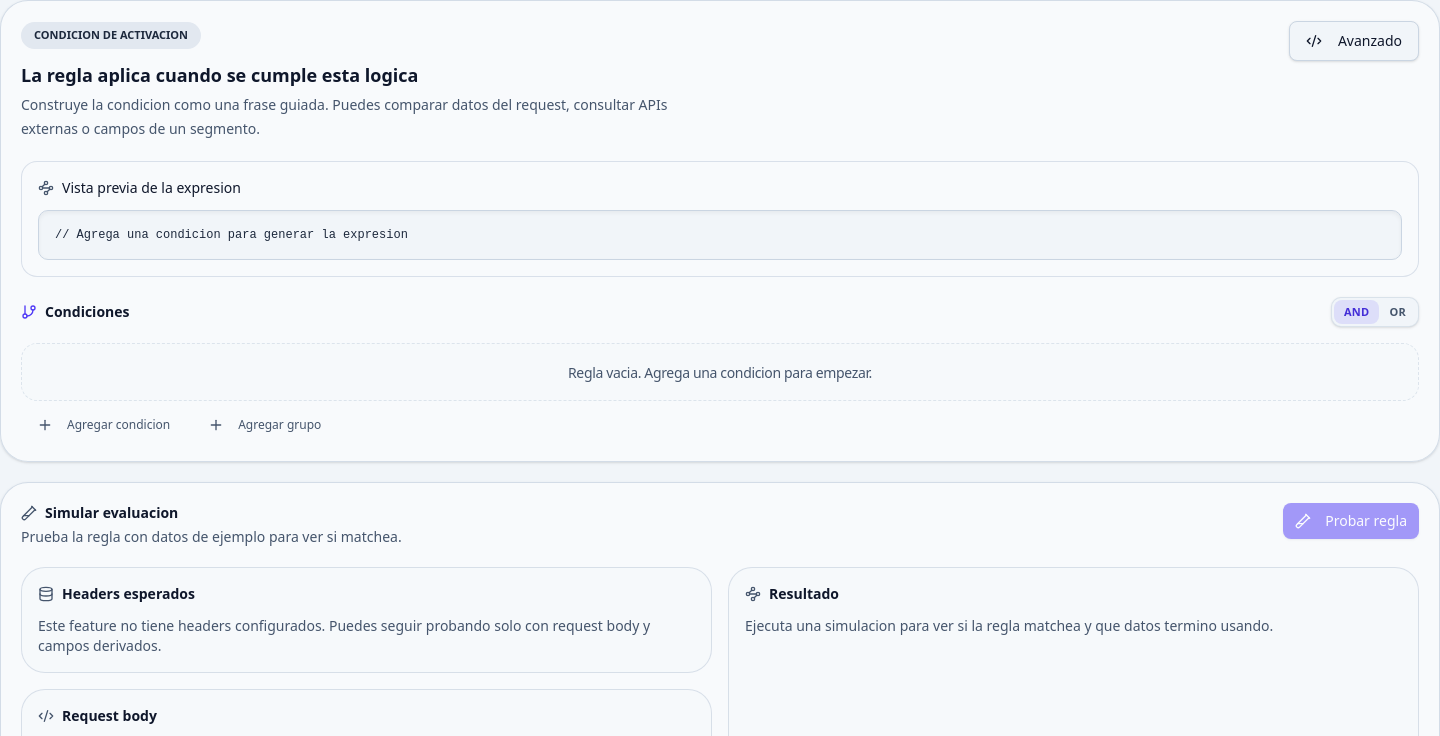
RuleConditionsCanvas › shows the return-to-builder action only when guided metadata exists
Step 1. Click the button "Avanzado" → (1354, 41), box left=1289, top=21, right=1419, bottom=61
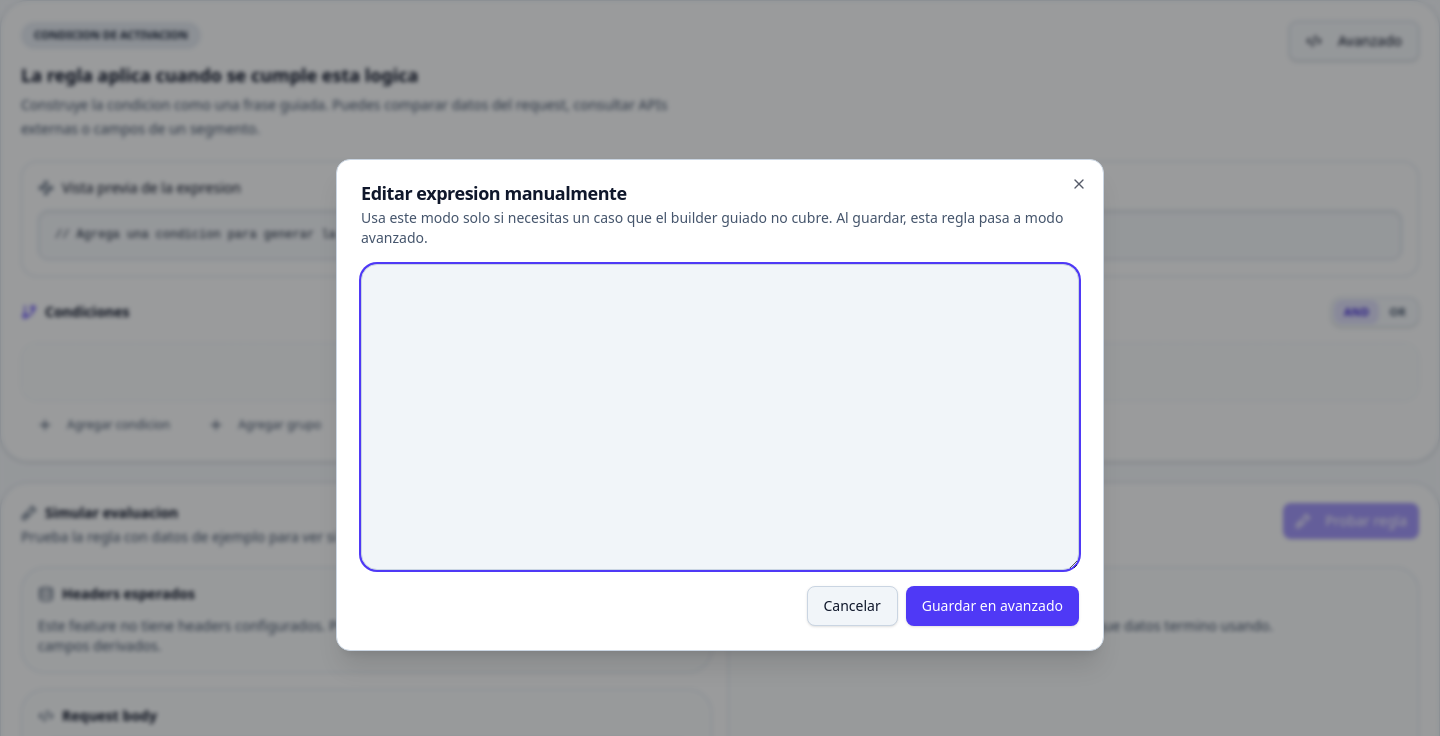
Step 2. Click the button "Guardar en avanzado" → (992, 606), box left=906, top=586, right=1079, bottom=626
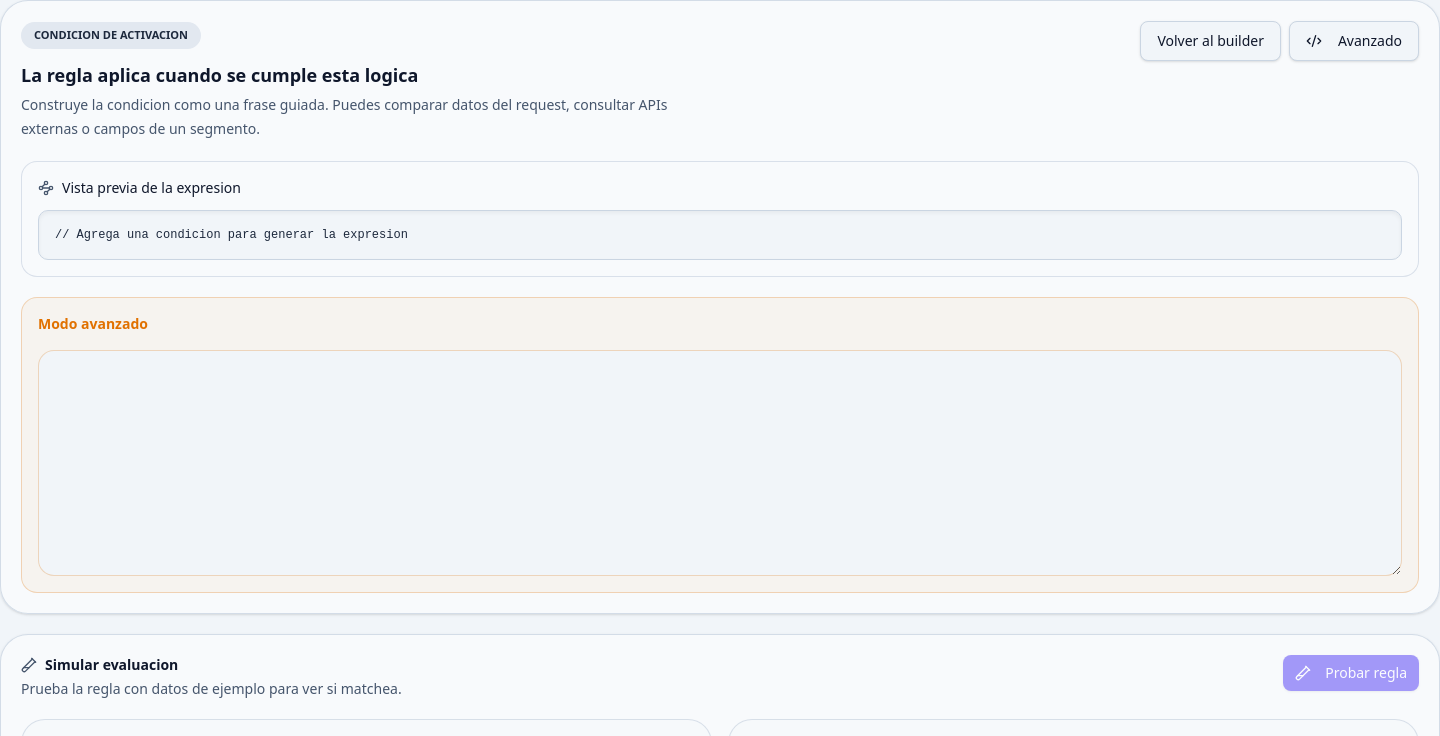
Now the button "Volver al builder" is shown, box left=1140, top=21, right=1281, bottom=61
